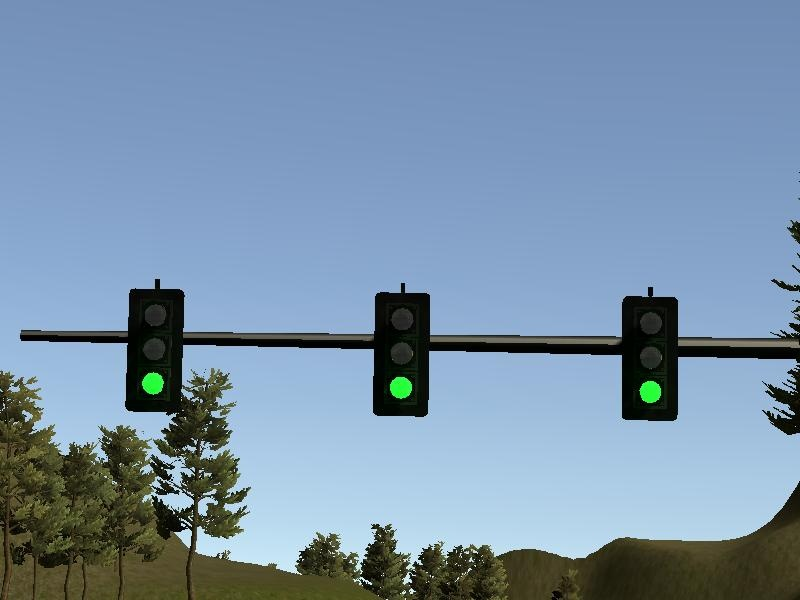Red: (125, 285, 179, 411), (376, 286, 430, 412), (626, 290, 680, 416)
